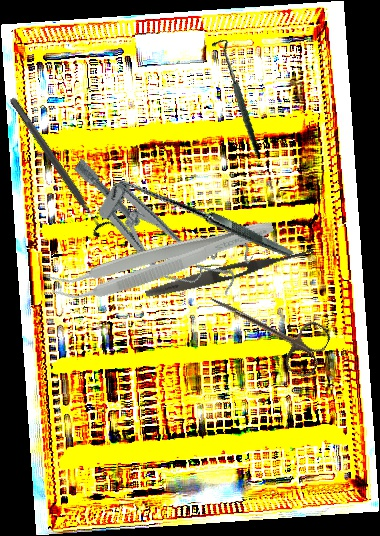Dressing Forceps: (143, 241, 316, 303)
Fixation Ring: (1, 91, 117, 240)
Hook Surgical: (107, 127, 294, 317), (193, 38, 280, 159)
Iris Scissors: (197, 276, 334, 381)
Speculum: (51, 145, 257, 312)
Tissue Forceps: (46, 203, 278, 313)
